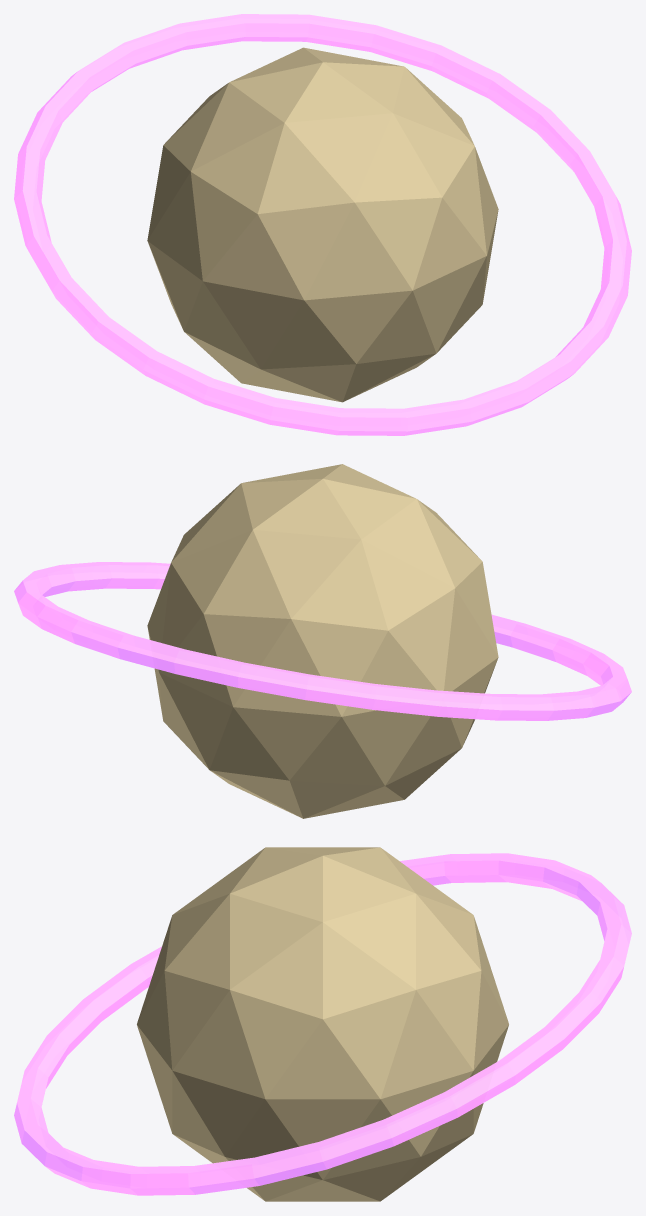
Rendered from ringed_planet.glb.
3 renders of one model, top to bottom at view 1: azimuth 30°, elevation 25°; view 2: azimuth 150°, elevation 25°; view 3: azimuth 270°, elevation 25°, orthographic. The views are drawn at different scales.
Visible parts, largest first — view 1: ENV_RINGED_PLANET_01; view 2: ENV_RINGED_PLANET_01; view 3: ENV_RINGED_PLANET_01.
Part boxes in pixels (bbox=[...]): ENV_RINGED_PLANET_01: bbox=[14, 14, 631, 435]; ENV_RINGED_PLANET_01: bbox=[14, 464, 631, 818]; ENV_RINGED_PLANET_01: bbox=[14, 847, 631, 1201].
Size of the model in its own units: 62.8 by 36 by 59.73.
